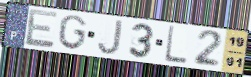2: (194, 29, 224, 68)
3: (128, 22, 155, 60)
E: (24, 8, 60, 49)
G: (57, 14, 88, 52)
J: (96, 18, 125, 56)
L: (163, 24, 188, 65)
